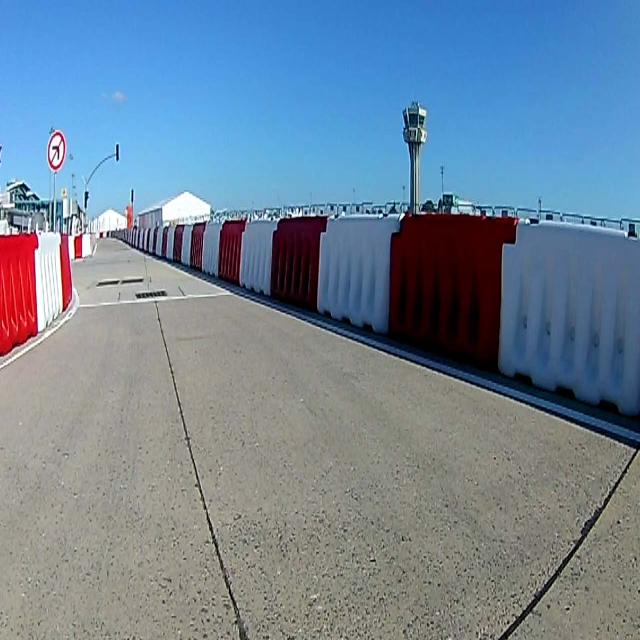soladonulmez: (46, 130, 66, 170)
